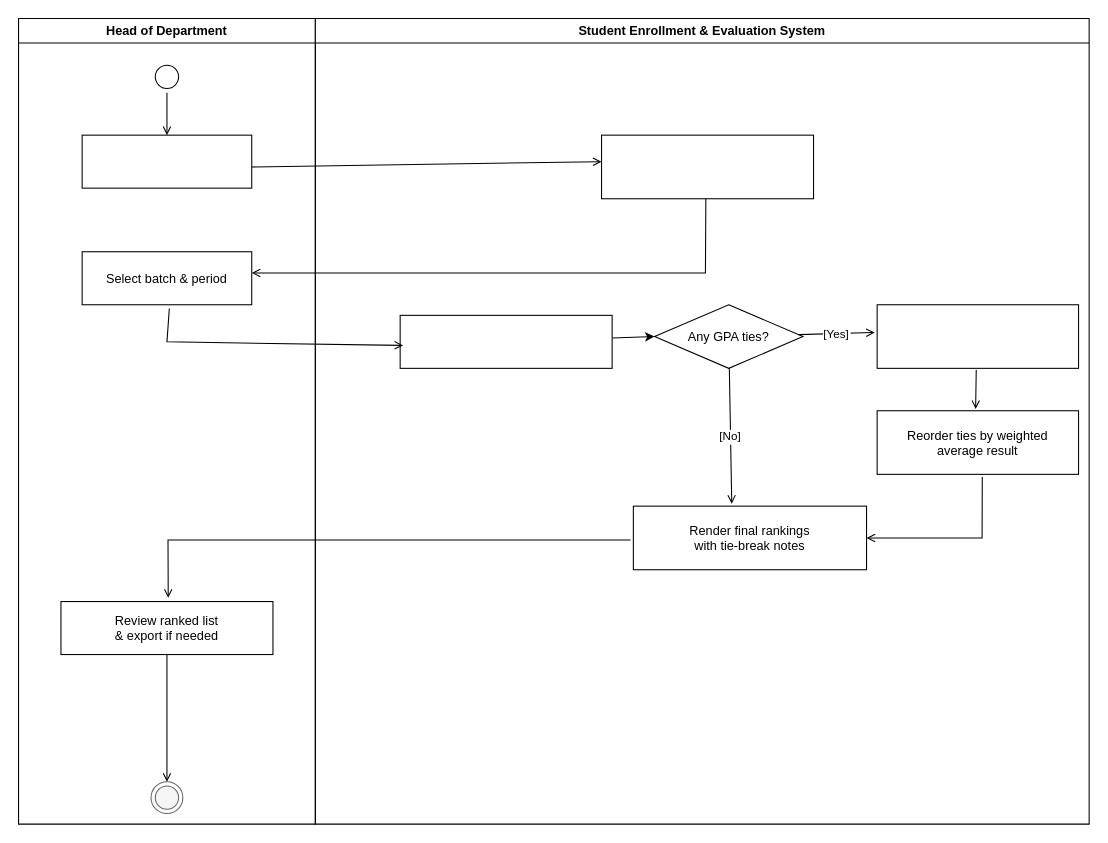
Image size: 1108x843. Some labels were removed from this diagram. Each missing label, with the box of its shape:
Compute GPA-based ranking: (399, 314, 612, 368)
Compute weighted average for tied students: (876, 304, 1079, 368)
Load students & GPAs for selection criteria: (600, 134, 814, 199)
Open Rankings page: (81, 134, 252, 188)
